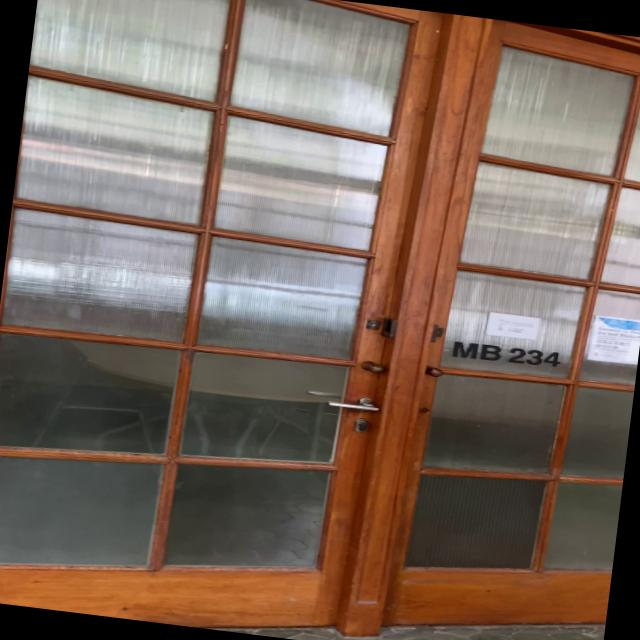room234Window: (445, 336, 565, 373)
